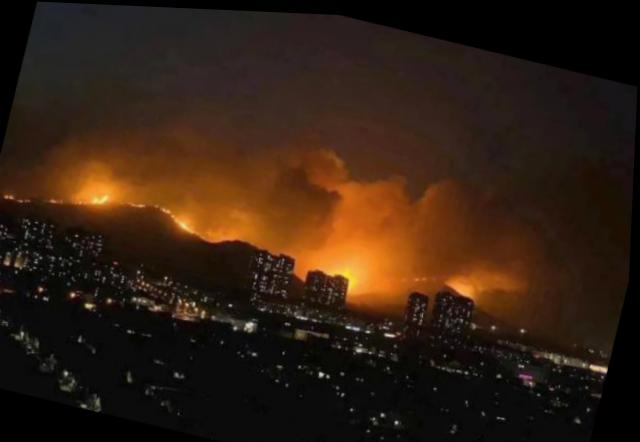fire: (319, 251, 369, 293), (146, 196, 202, 230), (443, 265, 484, 294), (85, 183, 117, 210), (129, 193, 148, 208)
